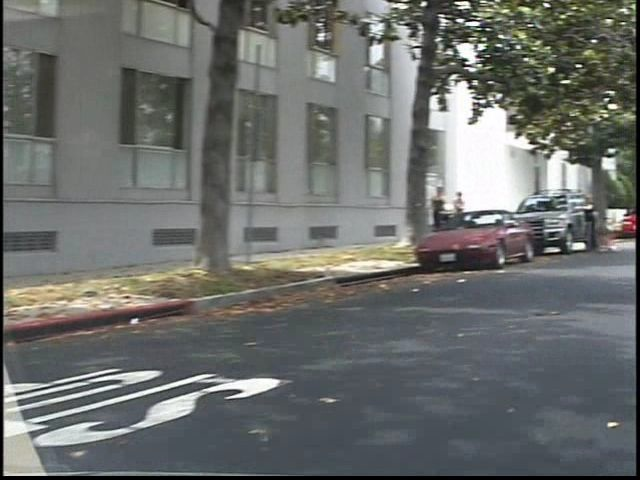person: (441, 180, 465, 246), (462, 186, 485, 241)
